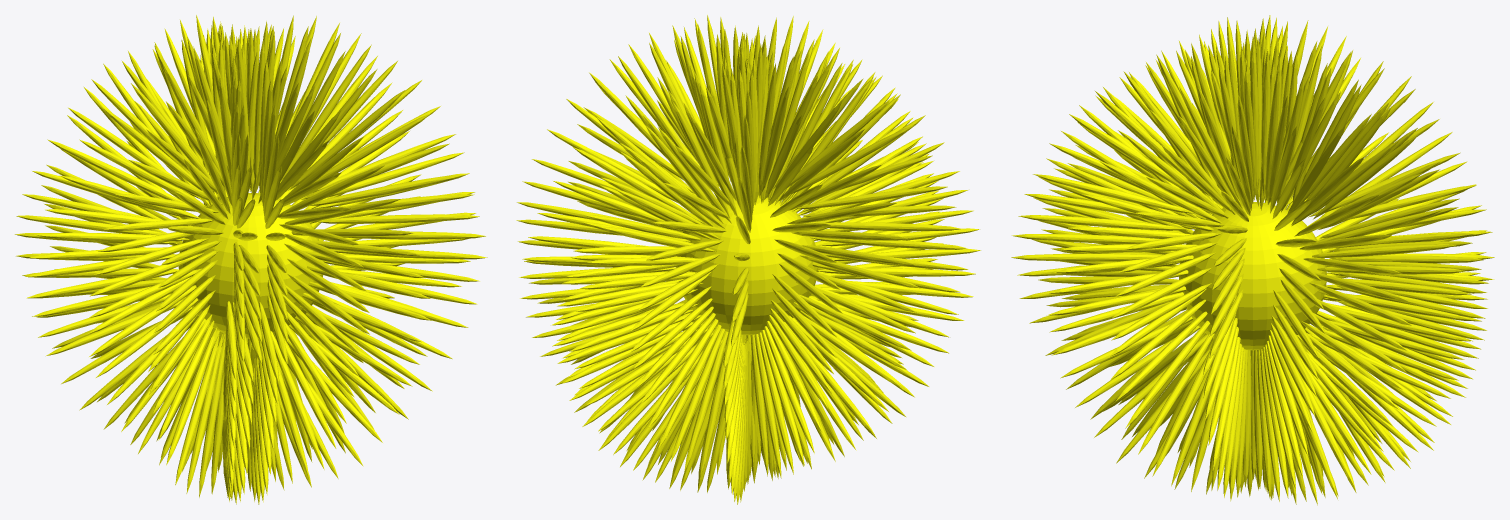
File: fireworkyellow.glb
3 renders of one model, left to right at view 1: azimuth 30°, elevation 25°; view 2: azimuth 150°, elevation 25°; view 3: azimuth 270°, elevation 25°, orthographic. The views are drawn at different scales.
Visible parts, largest first — view 1: sparks1; view 2: sparks1; view 3: sparks1.
Part boxes in pixels (left/top/right/bottom): sparks1: left=14, top=15, right=487, bottom=504; sparks1: left=516, top=15, right=980, bottom=504; sparks1: left=1011, top=15, right=1494, bottom=505.
Size of the model in its own units: 11.21 by 12 by 11.44.
